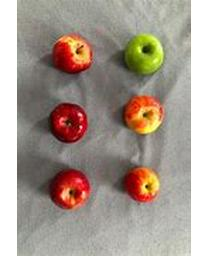apple: (50, 32, 95, 75), (121, 93, 166, 135), (123, 32, 163, 74), (49, 170, 91, 209), (48, 103, 88, 143), (124, 166, 161, 203)
